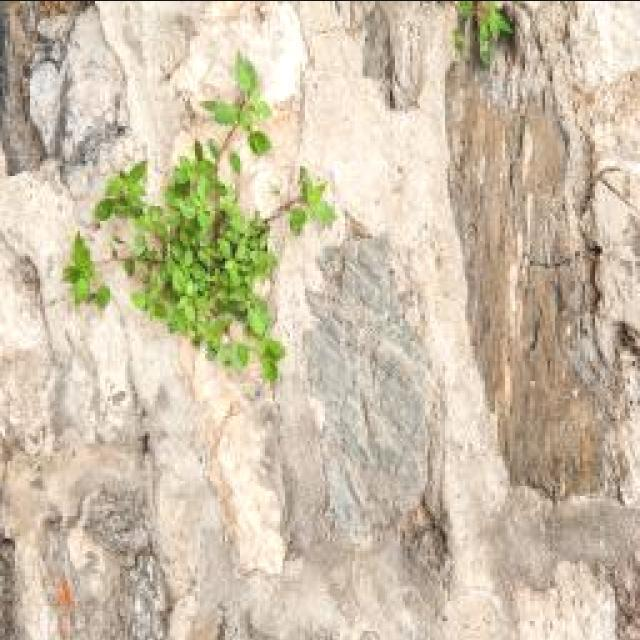crack: (1, 1, 638, 637), (0, 16, 167, 640), (286, 13, 452, 255), (10, 240, 63, 380), (46, 28, 83, 165), (522, 251, 593, 273), (585, 246, 604, 309)
vegetation: (61, 49, 337, 384), (71, 159, 178, 317), (203, 55, 275, 156), (93, 157, 155, 224), (61, 232, 108, 310), (476, 3, 514, 63)
